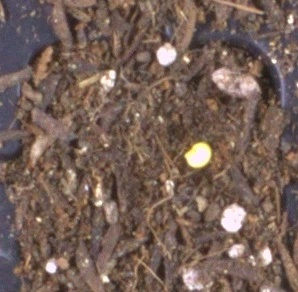chilli seed: (183, 142, 212, 169)
